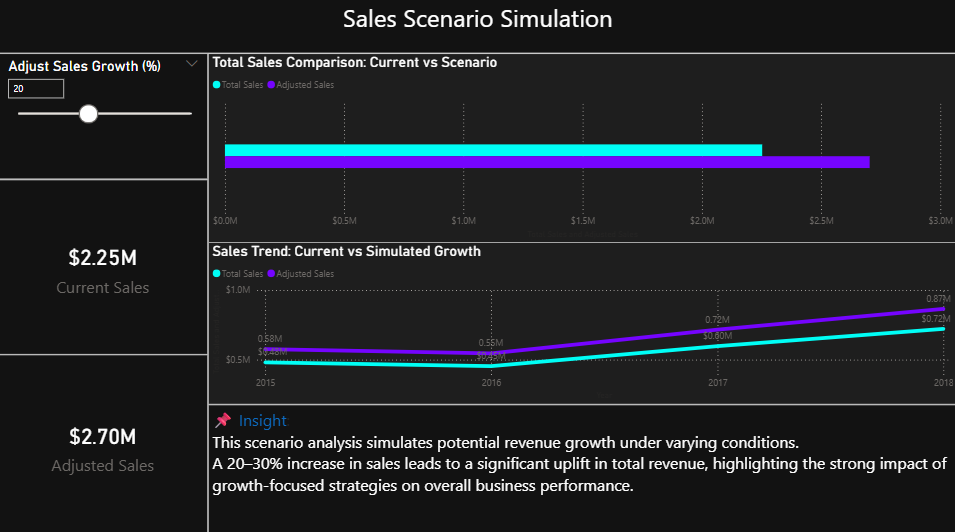

This screenshot's page, from the dashboard's own definition file:
{"tool":"powerbi","page":{"name":"Scenario Analysis","canvas":[1280,720],"ordinal":3},"visuals":[{"type":"slicer","fields":{"Values":["Sales Growth %.Sales Growth %"]},"box":[0,75,280,168.3],"z":0},{"type":"textbox","box":[0,0,1280,75],"z":1000},{"type":"card","fields":{"Values":["cleaned_sales.Total Sales"]},"box":[0,243.3,280,233.3],"z":2000},{"type":"card","fields":{"Values":["Sales Growth %.Adjusted Sales"]},"box":[0,476.7,280,243.3],"z":3000},{"type":"clusteredBarChart","title":"Total Sales Comparison: Current vs Scenario","fields":{"Y":["cleaned_sales.Total Sales","Sales Growth %.Adjusted Sales"]},"box":[280,75,1000,253.3],"z":4000},{"type":"lineChart","title":"Sales Trend: Current vs Simulated Growth","fields":{"Category":["cleaned_sales.order_date.Variation.Date Hierarchy.Year","cleaned_sales.order_date.Variation.Date Hierarchy.Month"],"Y":["cleaned_sales.Total Sales","Sales Growth %.Adjusted Sales"]},"box":[280,326.7,1000,216.7],"z":4001},{"type":"textbox","box":[280,544,1000,176],"z":4002}]}

Visuals, with their boxes in screenshot pixels (x1, y1, x2, y2), scaled from the page's 1280x720 canvas onto the 955x532 screenshot:
slicer - Sales Growth %.Sales Growth %: 0,55,209,180
textbox: 0,0,954,55
card - cleaned_sales.Total Sales: 0,180,209,352
card - Sales Growth %.Adjusted Sales: 0,352,209,531
"Total Sales Comparison: Current vs Scenario" clusteredBarChart: 209,55,954,243
"Sales Trend: Current vs Simulated Growth" lineChart: 209,241,954,402
textbox: 209,402,954,531
